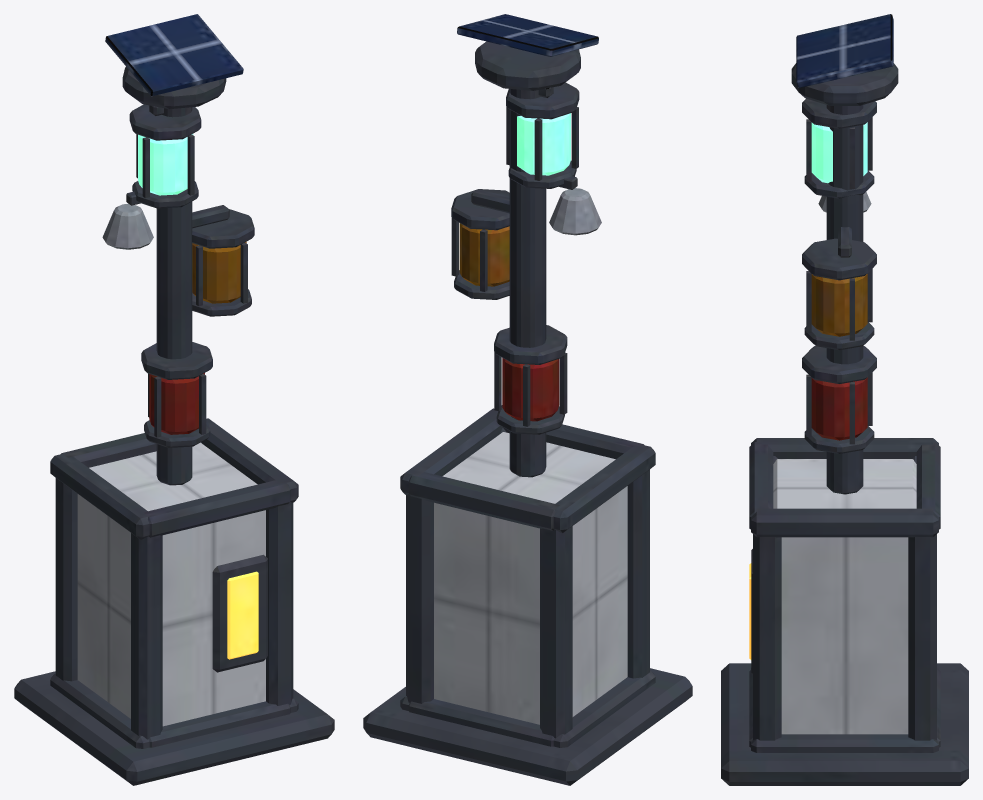
File: status-lamp-post.glb
3 renders of one model, left to right at view 1: azimuth 30°, elevation 25°; view 2: azimuth 150°, elevation 25°; view 3: azimuth 270°, elevation 25°, orthographic. The views are drawn at different scales.
Parts seen in each view (by area): view 1: PedestalFrame, PedestalBody, BasePlate, Post, SolarCap, PedestalWindowFrame, PedestalWindowPane, LanternR, LanternG, LanternA, TopCap, LanternCapG (+7 smaller); view 2: PedestalBody, PedestalFrame, BasePlate, Post, TopCap, SolarCap, LanternR, LanternG, LanternA, Bell, LanternCapR, LanternCapG (+5 smaller); view 3: PedestalBody, PedestalFrame, BasePlate, Post, SolarCap, LanternR, LanternA, TopCap, LanternCapA, LanternCapR, LanternG, LanternCapG (+3 smaller).
Part boxes in pixels (left/top/right/bottom): PedestalFrame: left=50, top=418, right=298, bottom=748; PedestalBody: left=77, top=442, right=265, bottom=726; BasePlate: left=14, top=671, right=334, bottom=785; Post: left=156, top=107, right=192, bottom=485; SolarCap: left=105, top=14, right=243, bottom=96; PedestalWindowFrame: left=212, top=554, right=267, bottom=672; PedestalWindowPane: left=227, top=571, right=258, bottom=659; LanternR: left=149, top=373, right=204, bottom=434; LanternG: left=138, top=134, right=193, bottom=195; LanternA: left=192, top=241, right=246, bottom=303; TopCap: left=122, top=67, right=226, bottom=109; LanternCapG: left=129, top=104, right=201, bottom=140; PedestalBody: left=434, top=432, right=627, bottom=724; PedestalFrame: left=400, top=408, right=655, bottom=747; BasePlate: left=363, top=668, right=692, bottom=785; Post: left=509, top=89, right=546, bottom=477; TopCap: left=475, top=41, right=580, bottom=90; SolarCap: left=457, top=14, right=598, bottom=56; LanternR: left=502, top=358, right=559, bottom=421; LanternG: left=517, top=113, right=570, bottom=175; LanternA: left=459, top=223, right=509, bottom=286; Bell: left=549, top=188, right=601, bottom=235; LanternCapR: left=494, top=325, right=567, bottom=364; LanternCapG: left=506, top=82, right=579, bottom=119; PedestalBody: left=773, top=459, right=916, bottom=734; PedestalFrame: left=749, top=438, right=940, bottom=752; BasePlate: left=721, top=663, right=968, bottom=785; Post: left=826, top=105, right=863, bottom=494; SolarCap: left=796, top=14, right=893, bottom=87; LanternR: left=811, top=377, right=867, bottom=440; LanternA: left=811, top=274, right=867, bottom=336; TopCap: left=791, top=63, right=898, bottom=105; LanternCapA: left=802, top=238, right=876, bottom=280; LanternCapR: left=802, top=346, right=876, bottom=383; LanternG: left=811, top=122, right=867, bottom=183; LanternCapG: left=802, top=98, right=876, bottom=128.
Size of the model in its own units: 0.9 by 2.81 by 0.9.
Materials: 8 (8 with a texture image).
